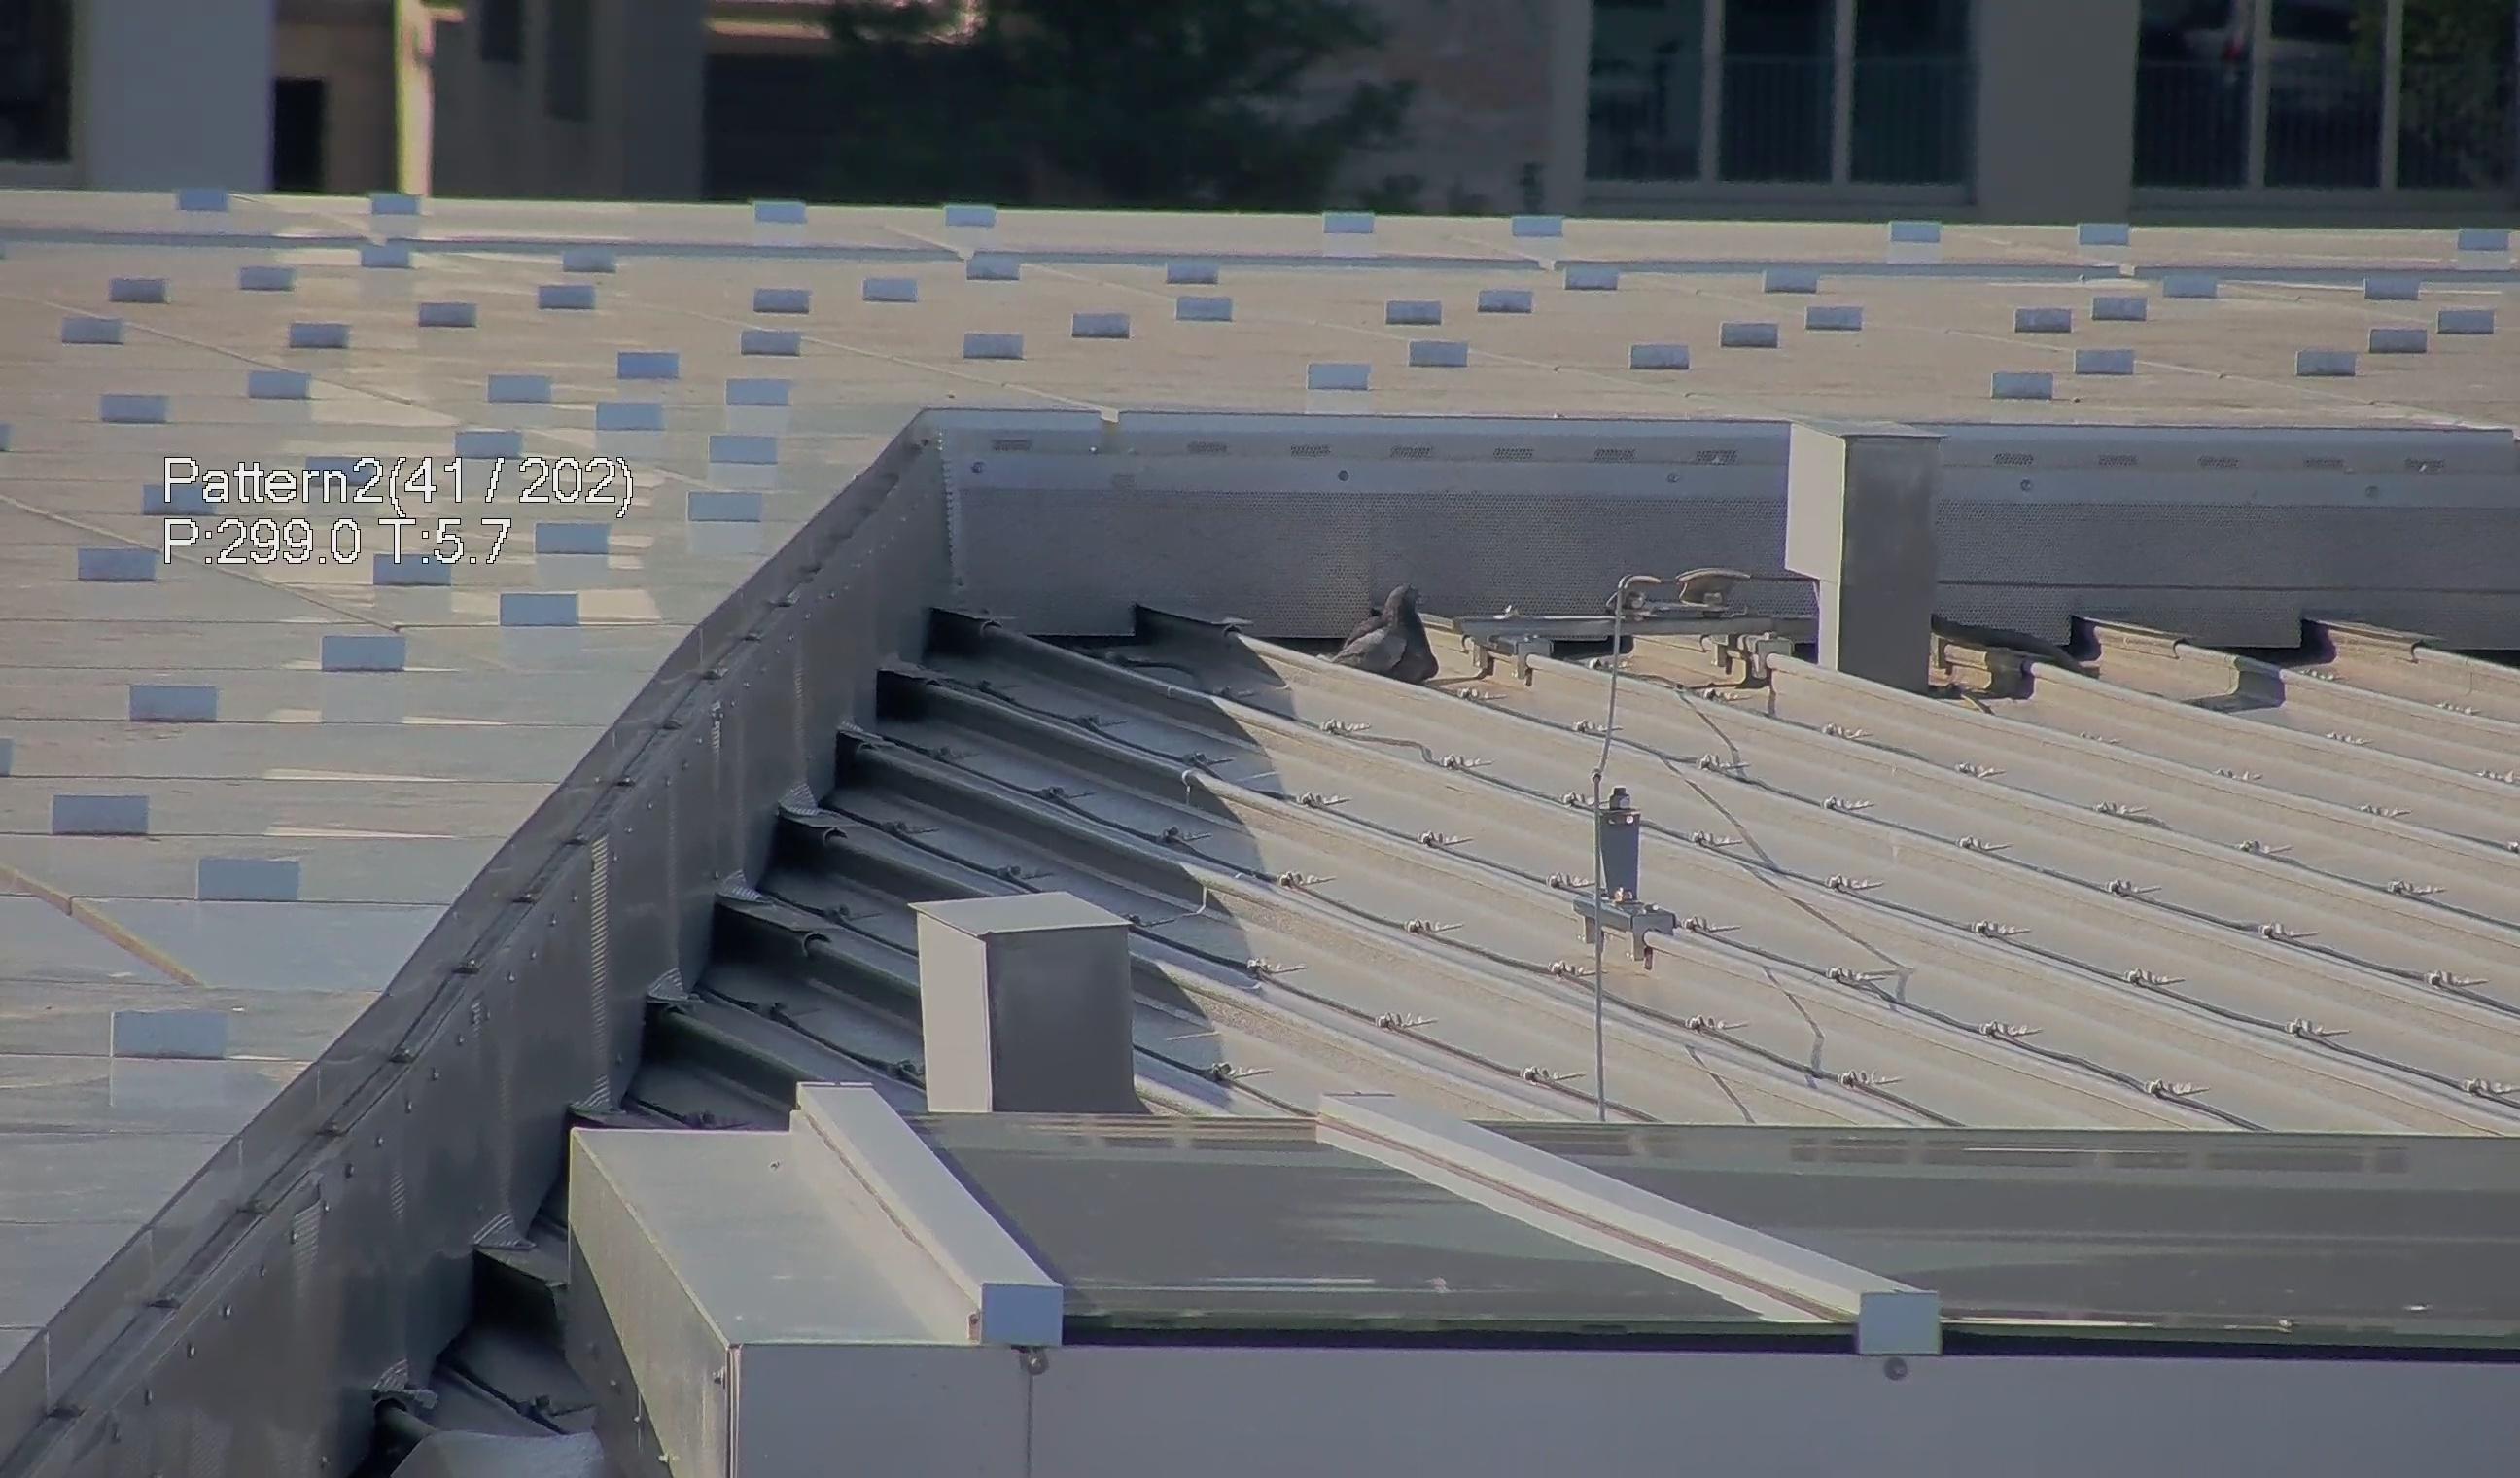Pigeon: (1319, 570, 1451, 688)
